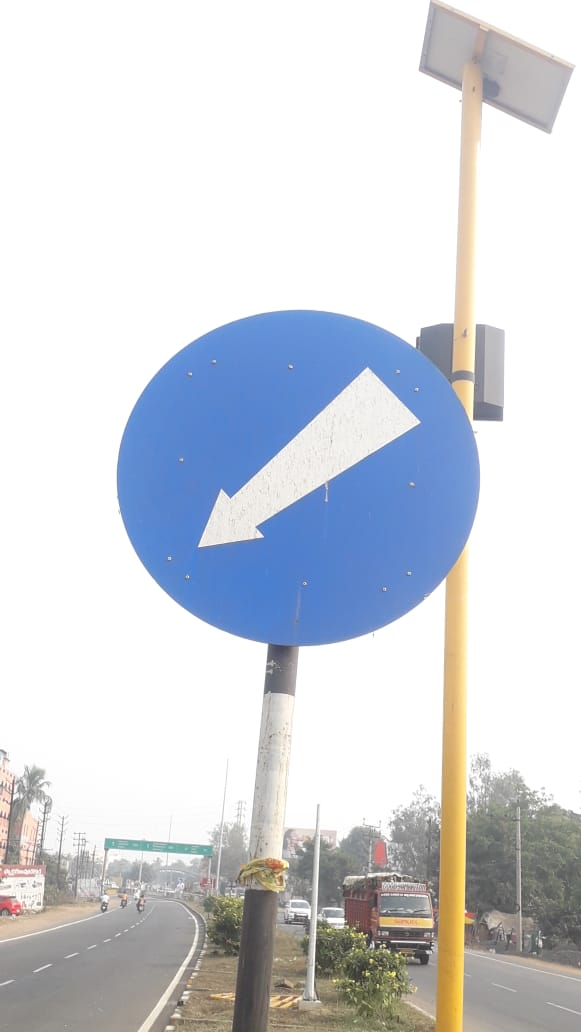go left: (110, 304, 487, 671)
